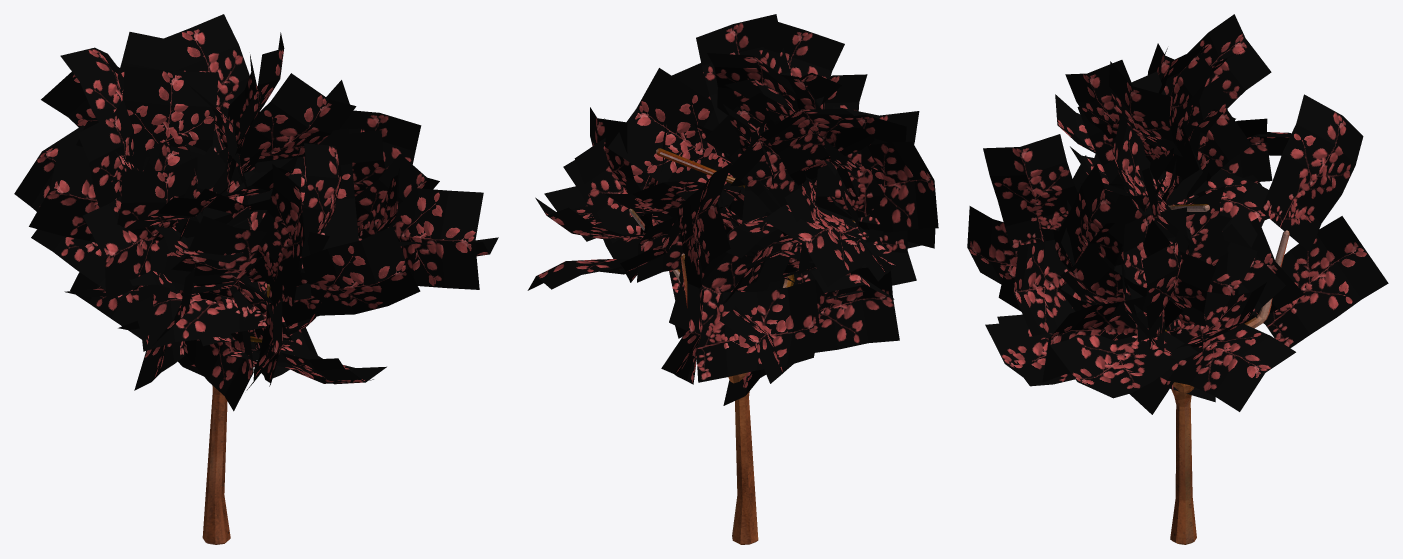
File: Maple_green.glb
3 renders of one model, left to right at view 1: azimuth 30°, elevation 25°; view 2: azimuth 150°, elevation 25°; view 3: azimuth 270°, elevation 25°, orthographic. The views are drawn at different scales.
Visible parts, largest first — view 1: Maple_red; view 2: Maple_red; view 3: Maple_red.
Part boxes in pixels (x1,y1,x2,y2): Maple_red: (14,14,498,544); Maple_red: (527,14,938,544); Maple_red: (967,14,1388,544).
Size of the model in its own units: 6.83 by 7.64 by 6.04.
Materials: 2 (2 with a texture image).
